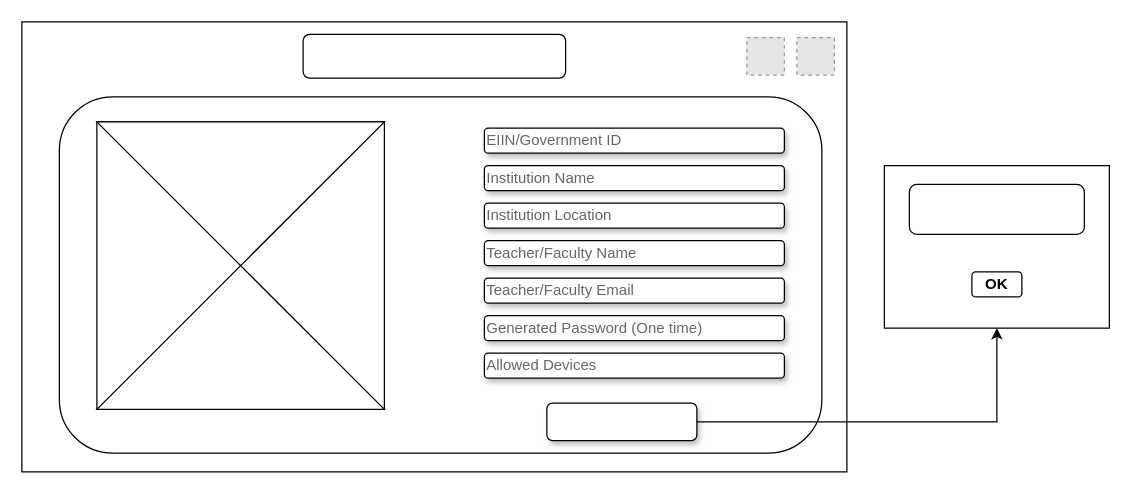
The diagram is 1131 pixels wide and 494 high, and some of its shapes have lost their labels. Grey dashed boxes stand in for pictures. The shapes that lost their labels are listed below. From the top down, each one's centre as x and y in pixels, then its label:
pixel 434 55: Institutional Signup
pixel 996 208: Assign Successful !
pixel 240 265: Dashboard picture of the signup
pixel 622 423: SUBMIT
